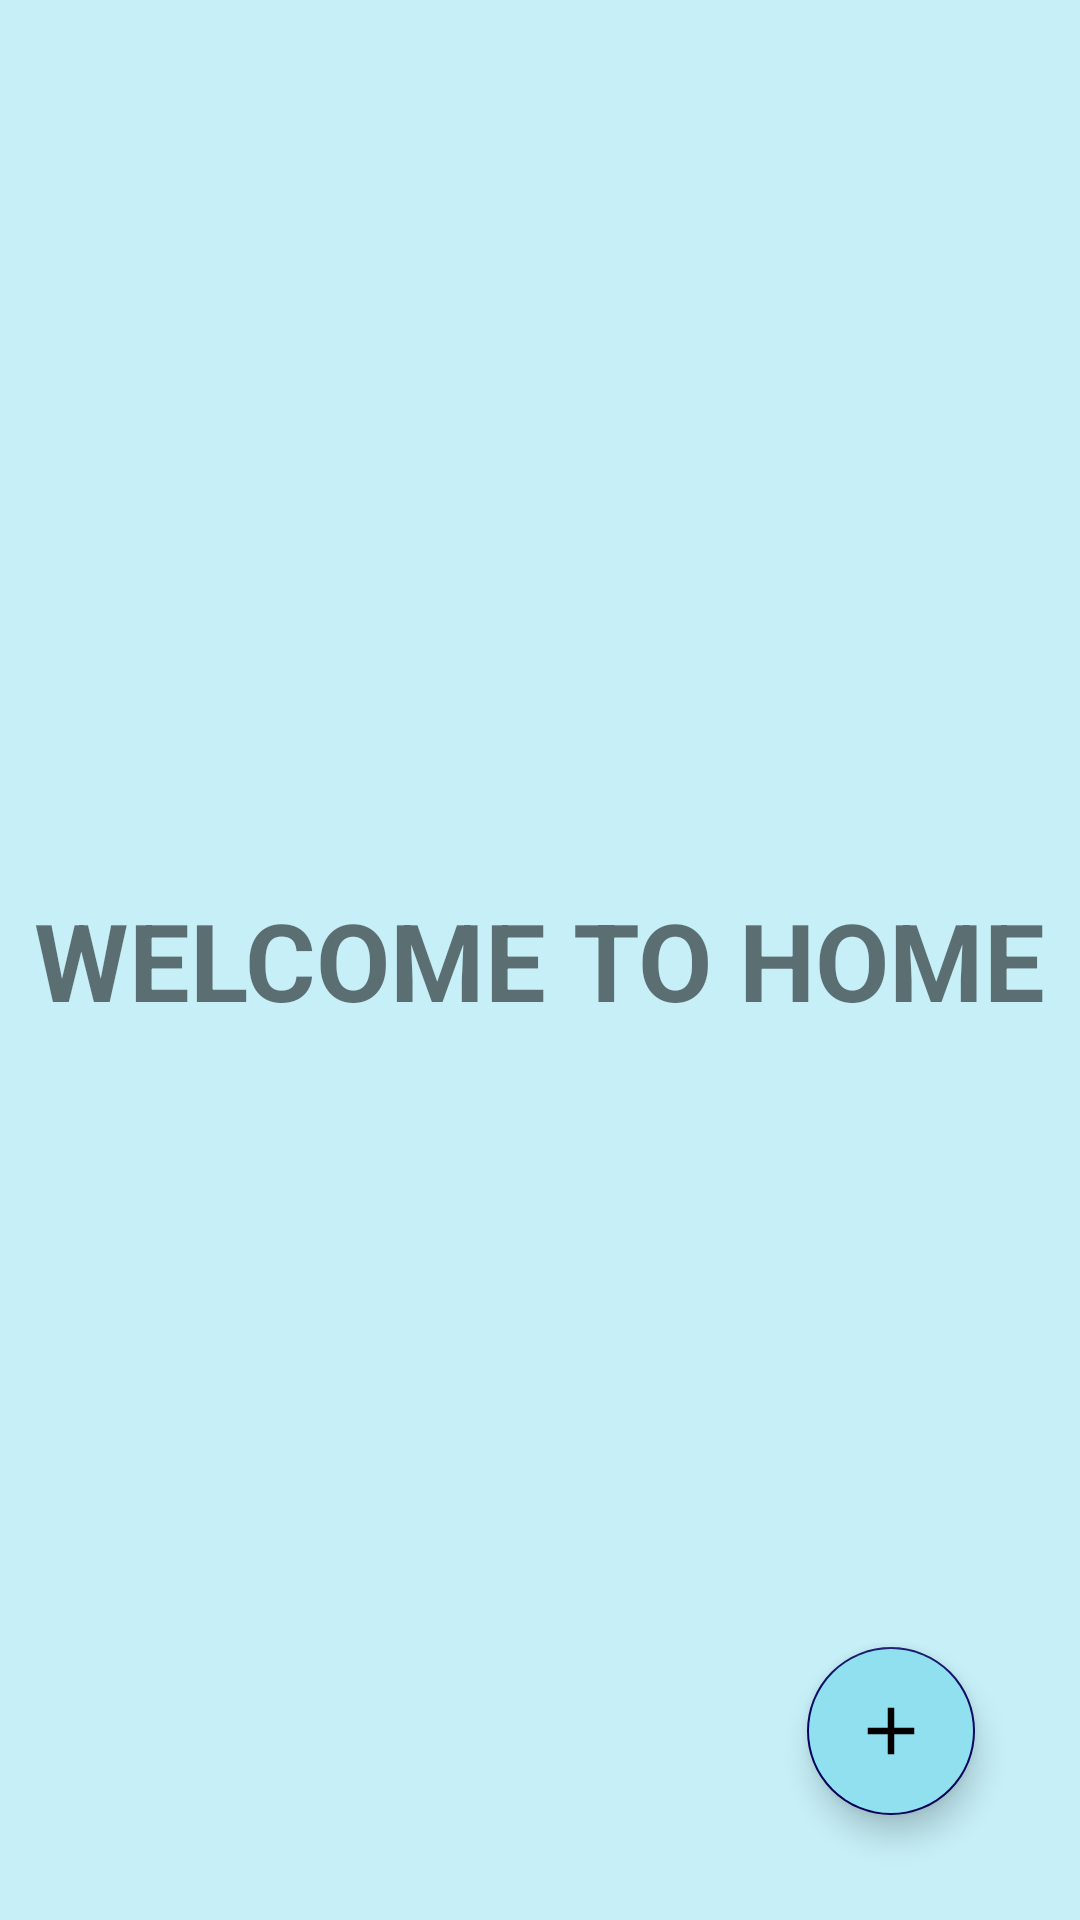

Icons on this 1080px×1920px Android screen, each with its box as (x1, y1, x2, y2):
add: (807, 1647, 975, 1815)
